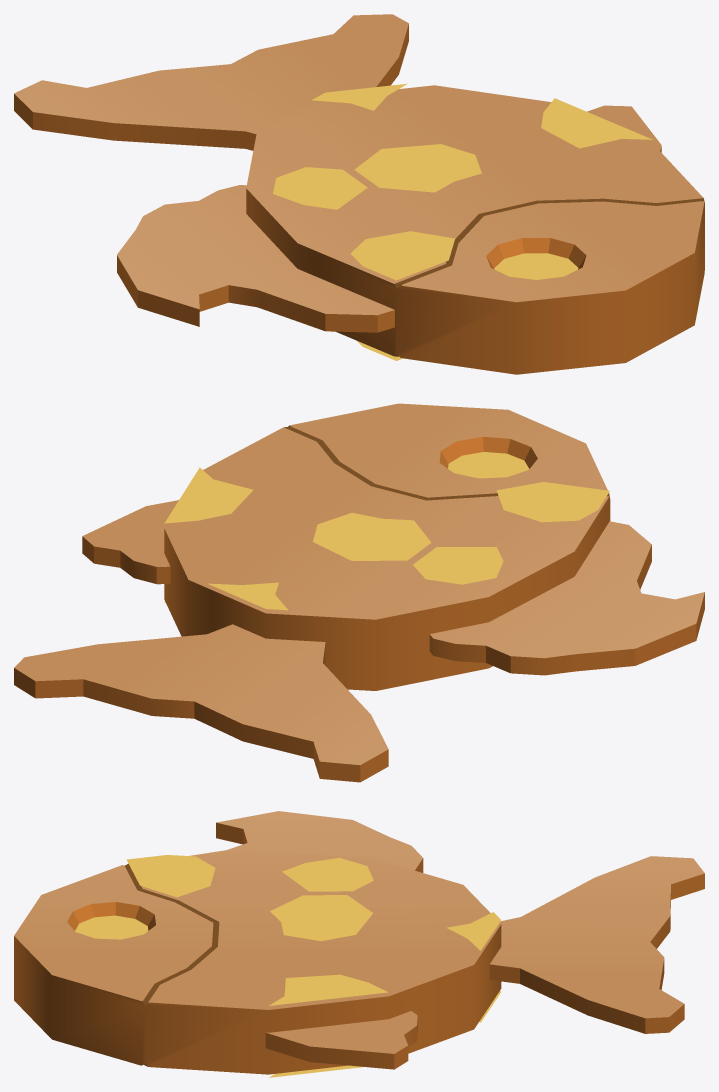
File: Asset_Lure.fbx
3 renders of one model, top to bottom at view 1: azimuth 30°, elevation 25°; view 2: azimuth 150°, elevation 25°; view 3: azimuth 270°, elevation 25°, orthographic. The views are drawn at different scales.
Visible parts, largest first — view 1: Asset_Lure; view 2: Asset_Lure; view 3: Asset_Lure.
Part boxes in pixels (left/top/right/bottom): Asset_Lure: left=14, top=14, right=704, bottom=374; Asset_Lure: left=14, top=403, right=704, bottom=782; Asset_Lure: left=14, top=811, right=704, bottom=1077.
Bounding box in the file's own units: 33.2 × 4.58 × 39.9.
